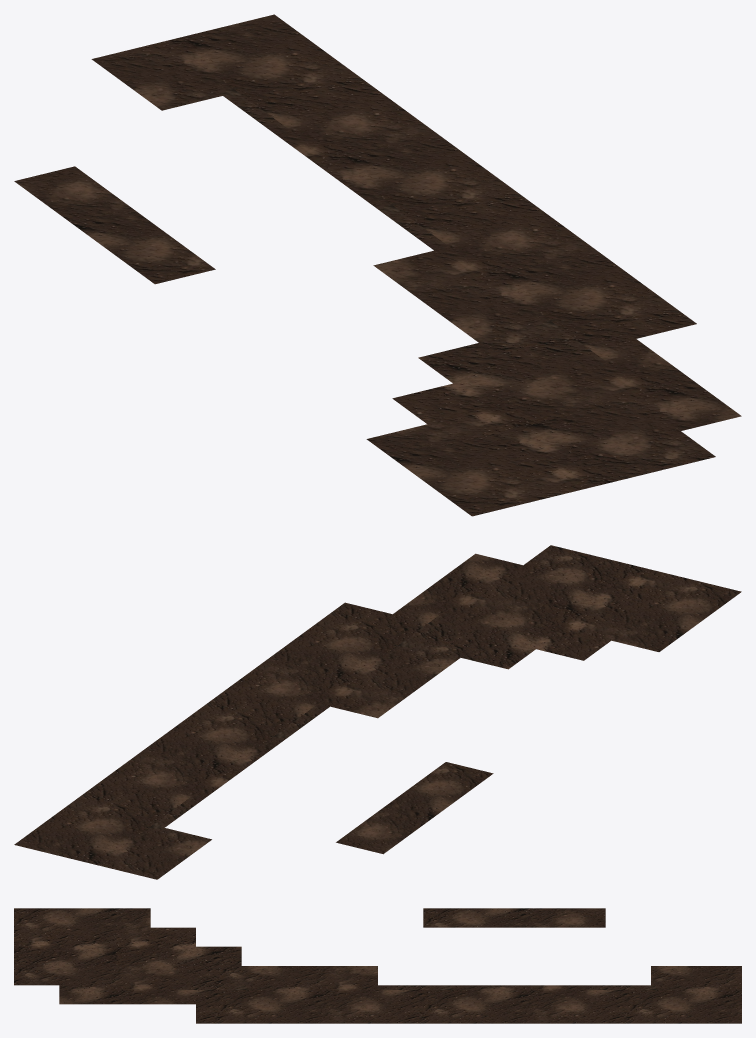
Rendered from floor_3_-8.glb.
3 renders of one model, top to bottom at view 1: azimuth 30°, elevation 25°; view 2: azimuth 150°, elevation 25°; view 3: azimuth 270°, elevation 25°, orthographic. The views are drawn at different scales.
Visible parts, largest first — view 1: floor_3_-8; view 2: floor_3_-8; view 3: floor_3_-8.
Part boxes in pixels (box(x1,y1,x2,y2)): floor_3_-8: box(14, 14, 741, 516); floor_3_-8: box(14, 545, 741, 879); floor_3_-8: box(14, 908, 741, 1023).
Bounding box in the file's own units: 24 × 0 × 64.
1 material, 1 textured.
